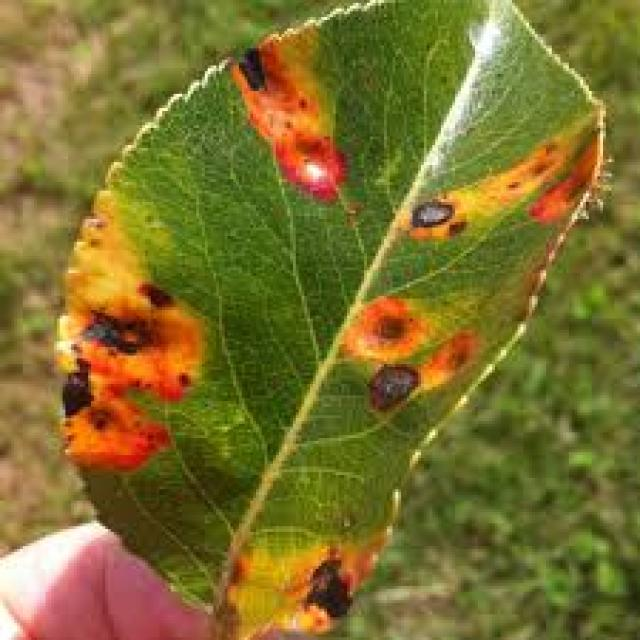leaf_rust: (57, 0, 600, 637)
